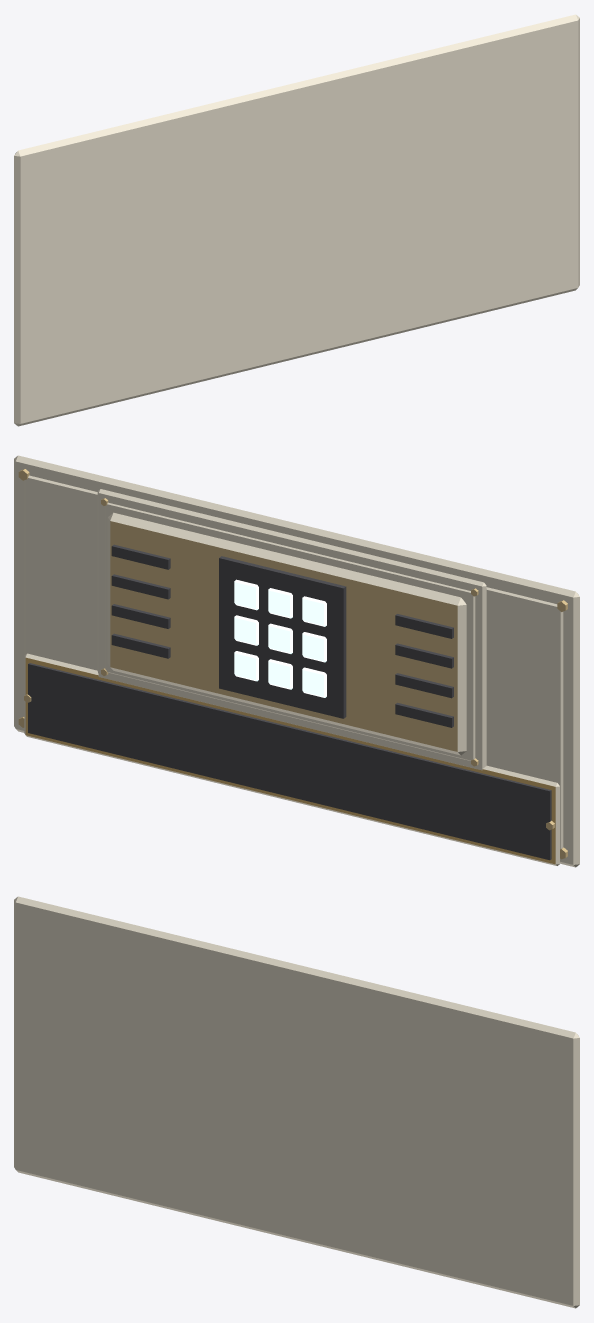
Rendered from Disp_Glyph_2x1.fbx.
3 renders of one model, top to bottom at view 1: azimuth 30°, elevation 25°; view 2: azimuth 150°, elevation 25°; view 3: azimuth 330°, elevation 25°, orthographic.
Visible parts, largest first — view 1: Disp_Glyph_2x1; view 2: Disp_Glyph_2x1, Cell5.001, Cell6.001, Cell7.001, Cell4.001, Cell0.001, Cell1.001, Cell2.001, Cell3.001, Cell8.001; view 3: Disp_Glyph_2x1.
Part boxes in pixels (x1,y1,x2,y2): Disp_Glyph_2x1: (14, 14, 579, 426); Disp_Glyph_2x1: (14, 455, 579, 867); Cell5.001: (302, 632, 326, 662); Cell6.001: (234, 651, 258, 681); Cell7.001: (268, 659, 292, 689); Cell4.001: (268, 623, 292, 653); Cell0.001: (234, 579, 258, 610); Cell1.001: (268, 588, 292, 618); Cell2.001: (302, 596, 326, 626); Cell3.001: (234, 615, 258, 645); Cell8.001: (302, 667, 326, 697); Disp_Glyph_2x1: (14, 896, 579, 1308).
Size of the model in its own units: 2.06 by 0.96 by 0.1244.
